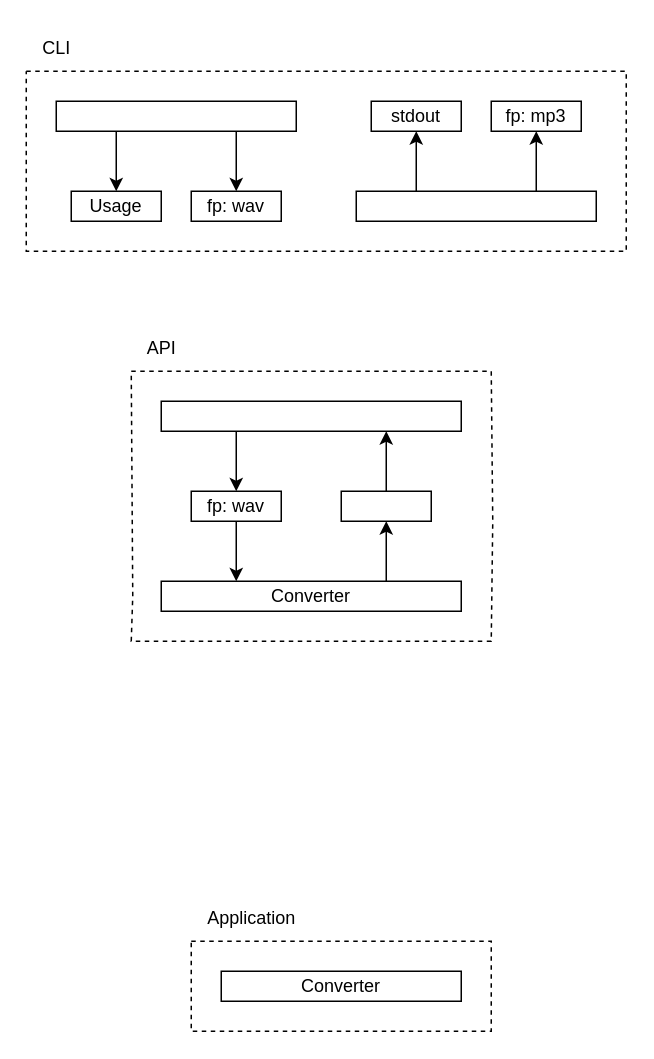
Some shapes in this 654 by 1059 pixel diagram are drawn without their labels. The shapes that lost their labels are listed below. From the top down, each one's box as (x1, y1, x2, y2) in pixels, then its label:
(55, 100, 296, 131): Input Interface
(355, 190, 596, 221): Output Interface
(160, 400, 461, 431): Input / Output Interface
(340, 490, 431, 521): b: mp3
